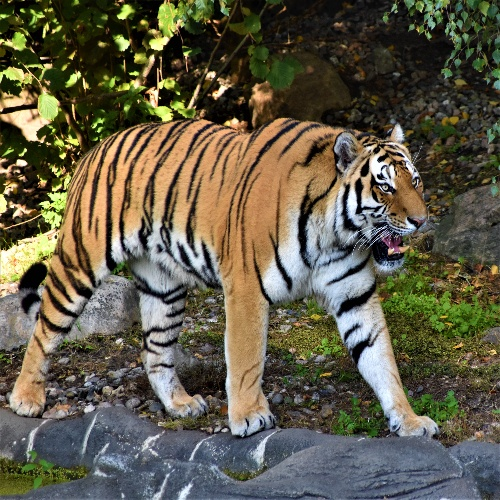tiger: (28, 97, 500, 478)
